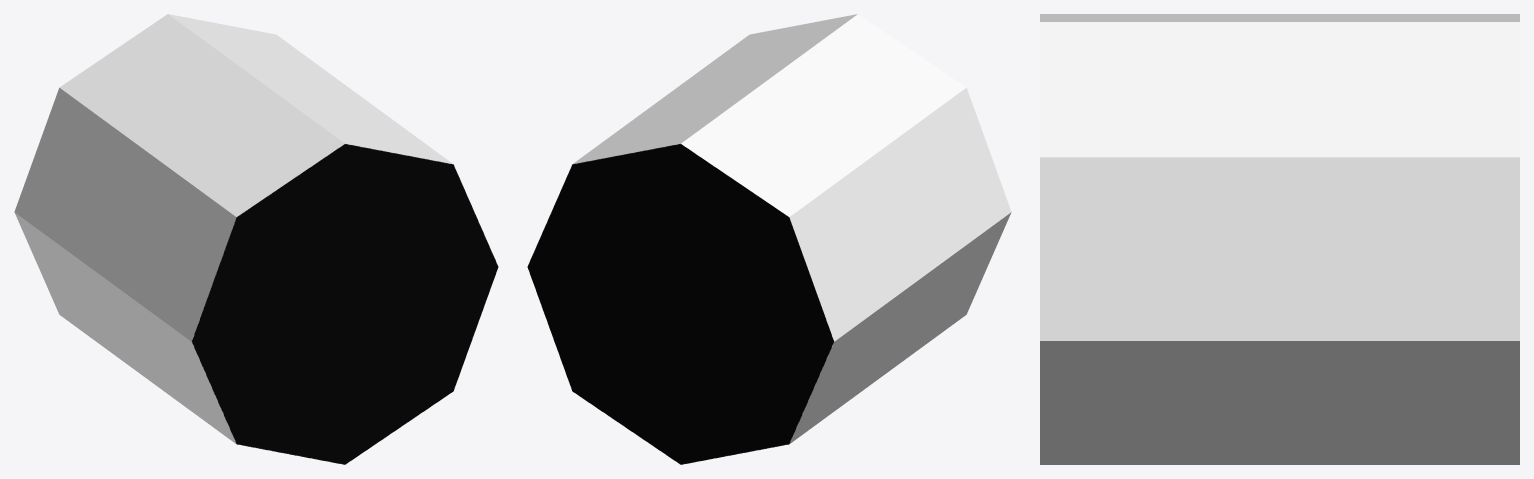
The model's file is OctagonModel.obj.
3 renders of one model, left to right at view 1: azimuth 30°, elevation 25°; view 2: azimuth 150°, elevation 25°; view 3: azimuth 270°, elevation 25°, orthographic. The views are drawn at different scales.
Parts seen in each view (by area): view 1: Octagon; view 2: Octagon; view 3: Octagon.
Boxes of the visible parts, box(x1,y1,x2,y2) form: Octagon: box(14, 14, 498, 464); Octagon: box(527, 14, 1011, 464); Octagon: box(1040, 14, 1519, 464).
Size of the model in its own units: 6.67 by 6.67 by 6.67.
3 materials, 3 textured.
